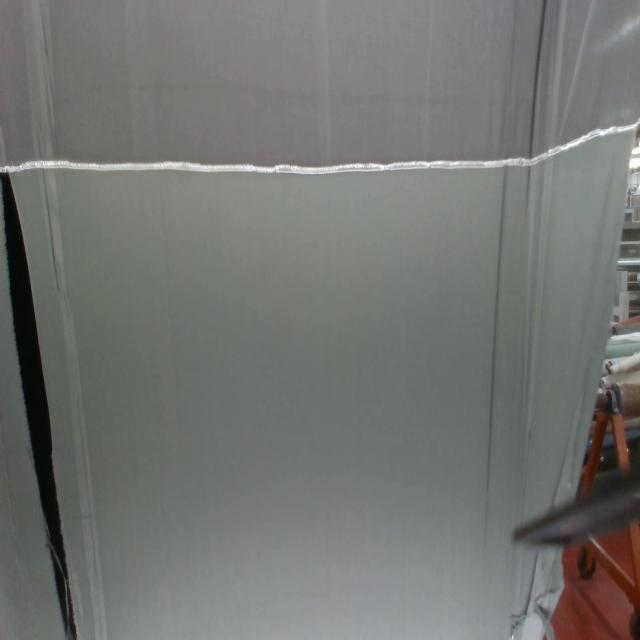crease: (40, 171, 110, 637), (479, 163, 512, 559)
hole: (1, 170, 77, 640)
